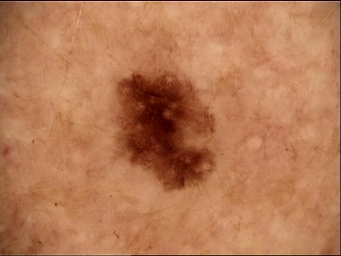melanoma: (114, 72, 219, 191)
